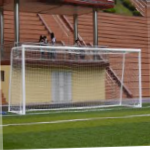goals: (7, 44, 144, 116)
